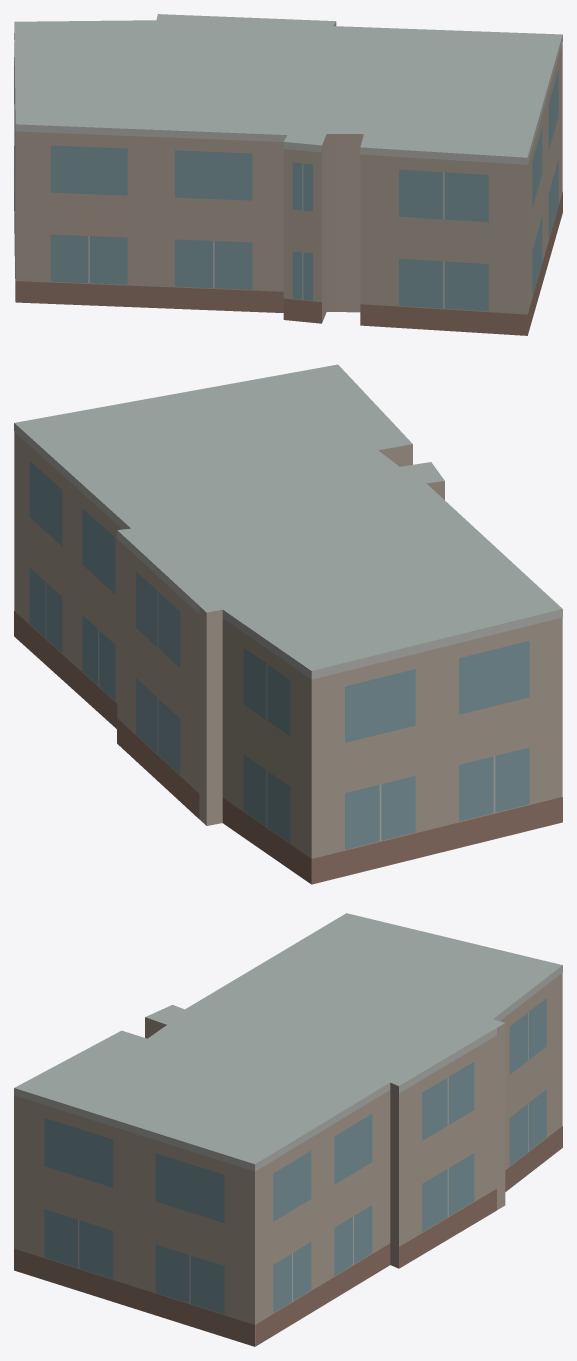
The model's file is survey-upis-32785219.glb.
The picture shows the model from 3 angles, top to bottom: view 1: azimuth 30°, elevation 25°; view 2: azimuth 150°, elevation 25°; view 3: azimuth 270°, elevation 25°; orthographic projection. The views are drawn at different scales.
Parts seen in each view (by area): view 1: survey-upis-32785219.tmp; view 2: survey-upis-32785219.tmp; view 3: survey-upis-32785219.tmp.
Part boxes in pixels (<box>): survey-upis-32785219.tmp: <box>14,14,562,335</box>; survey-upis-32785219.tmp: <box>14,364,562,884</box>; survey-upis-32785219.tmp: <box>14,913,562,1346</box>.
Bounding box in the file's own units: 18.02 × 6.1 × 16.63.
